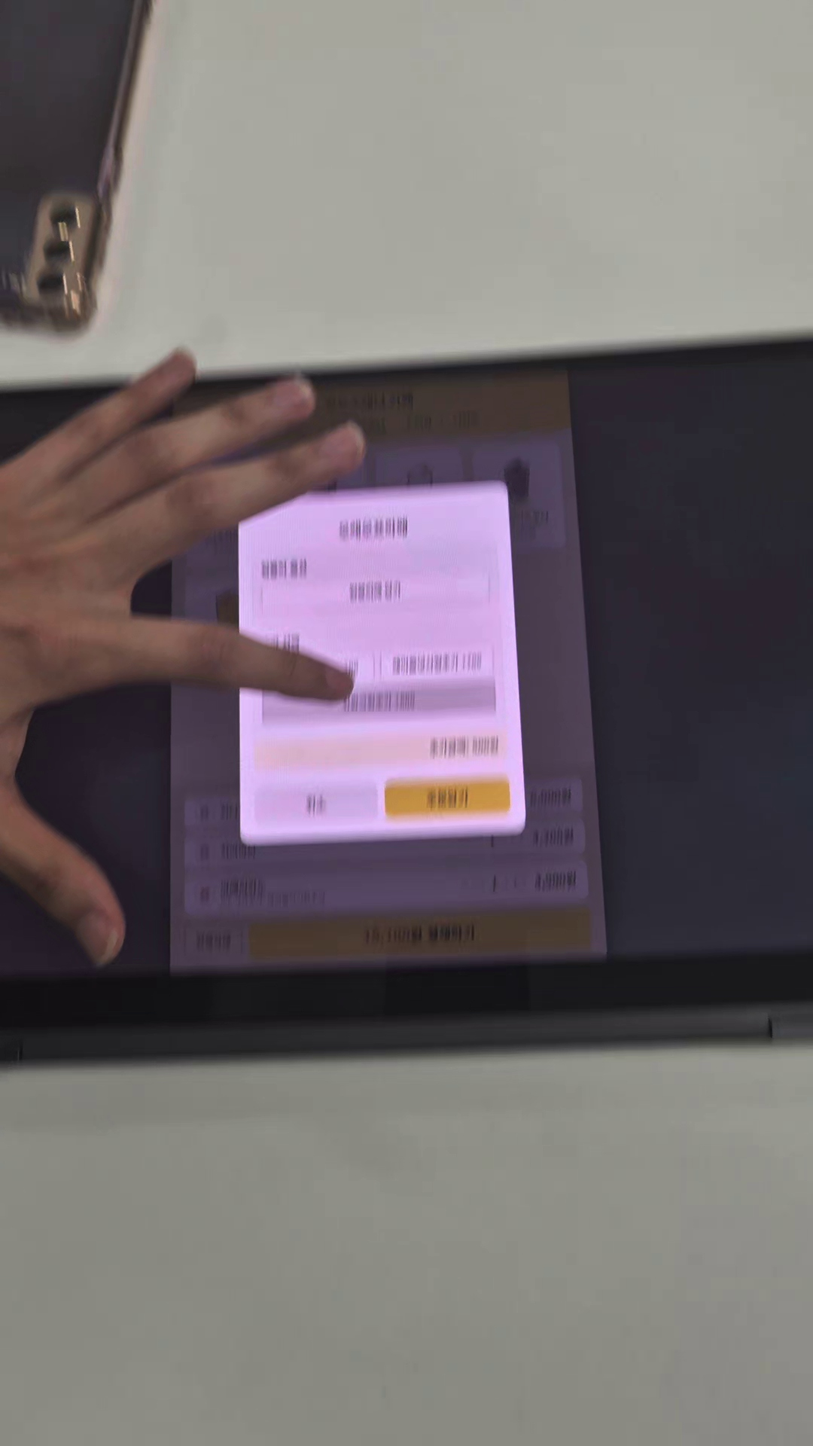action_button: (254, 783, 377, 826), (386, 776, 510, 818)
option_button: (263, 682, 497, 725), (262, 575, 490, 609), (382, 646, 493, 682)
popup_modal: (237, 482, 527, 845)
